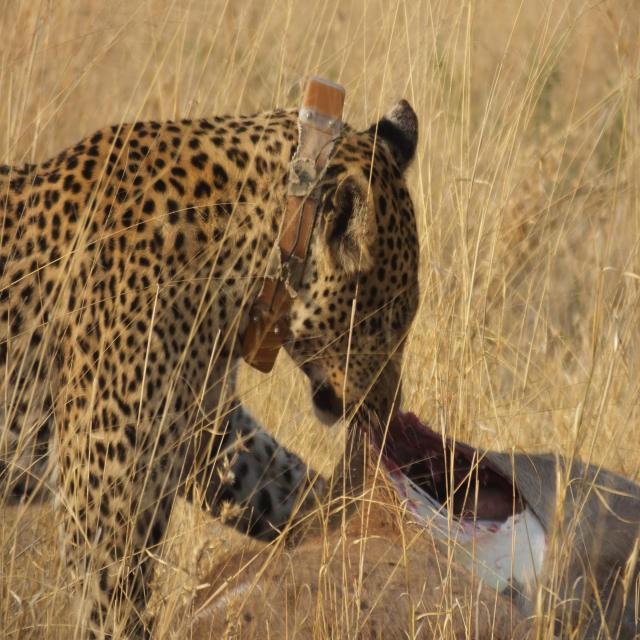Leopard: (0, 59, 459, 639)
